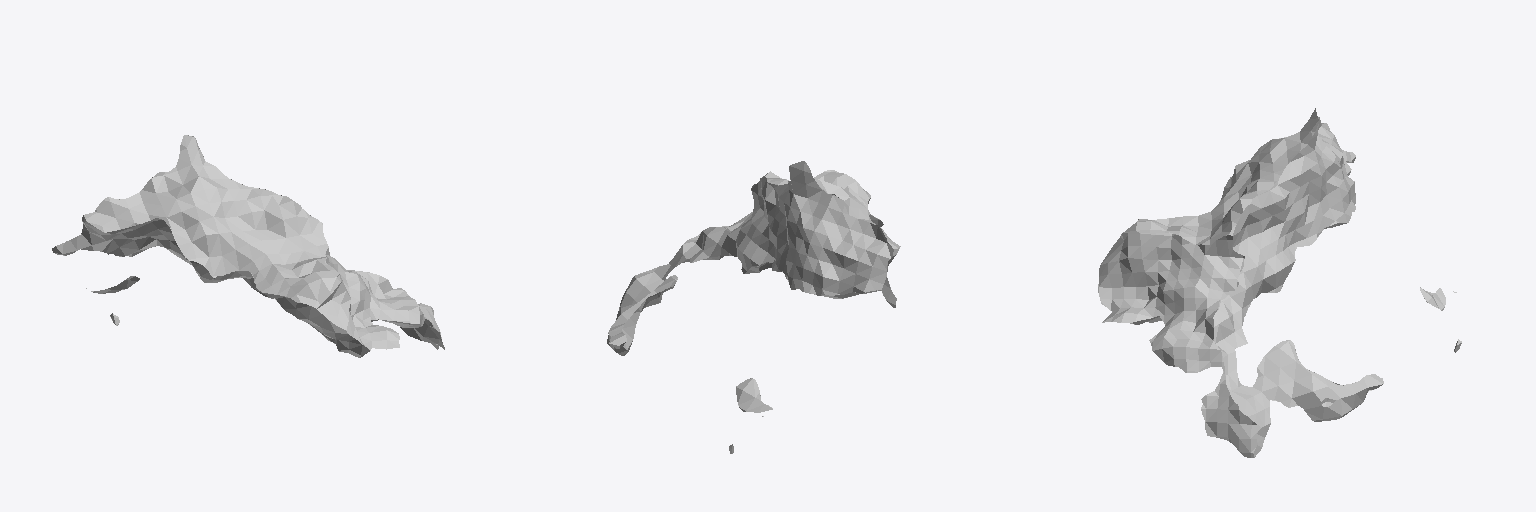
The model's file is cube_20_seed_4_shard.018.obj.
3 renders of one model, left to right at view 1: azimuth 30°, elevation 25°; view 2: azimuth 150°, elevation 25°; view 3: azimuth 270°, elevation 25°, orthographic.
Visible parts, largest first — view 1: Cube_shard.018_Cube_shard.158; view 2: Cube_shard.018_Cube_shard.158; view 3: Cube_shard.018_Cube_shard.158.
Boxes of the visible parts, x1=… form: Cube_shard.018_Cube_shard.158: x1=52, y1=135, x2=444, y2=357; Cube_shard.018_Cube_shard.158: x1=607, y1=161, x2=900, y2=453; Cube_shard.018_Cube_shard.158: x1=1098, y1=108, x2=1461, y2=457.
Size of the model in its own units: 1.15 by 0.8056 by 1.1.